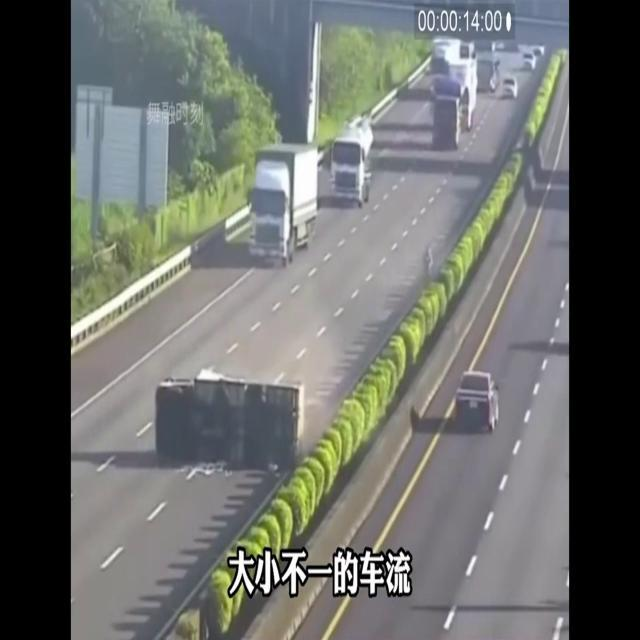normal: (252, 88, 402, 282), (432, 330, 530, 452)
single accident: (145, 303, 355, 502)
